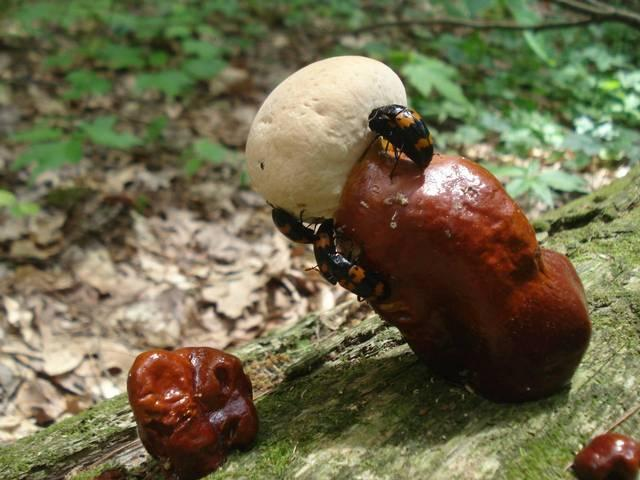Non-edible Mushroom: (242, 44, 640, 480), (125, 344, 259, 479)
